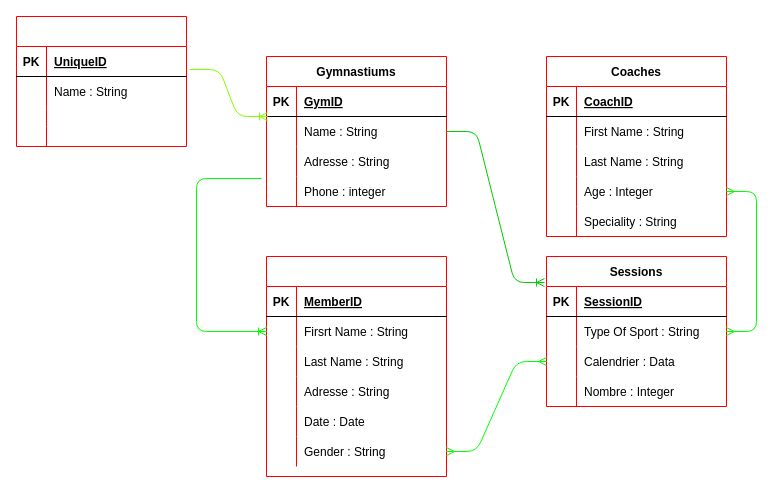
Image size: 773x493. Some labels were removed from this diagram. Each missing label, with the box of its shape:
Admin: (16, 16, 186, 146)
Members: (266, 256, 446, 476)
